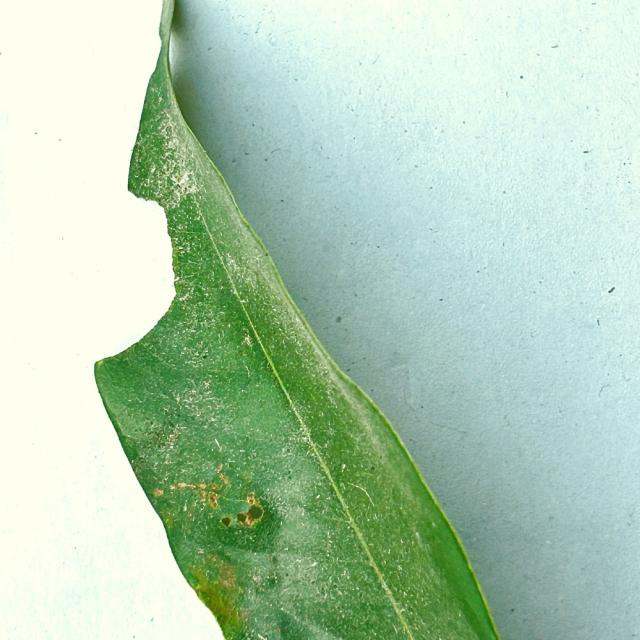Deficiency Leaf: (38, 103, 173, 490), (68, 2, 159, 89)
Lychee: (95, 0, 499, 639)
